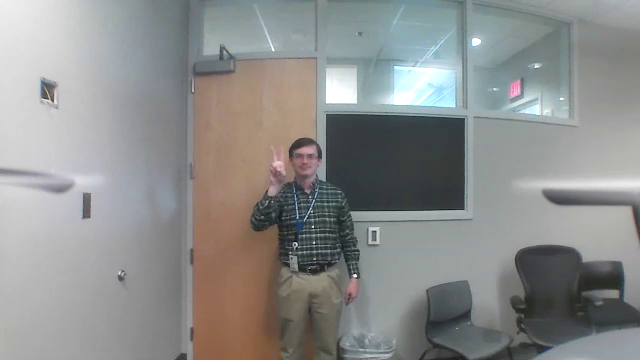peace: (266, 145, 289, 183)
